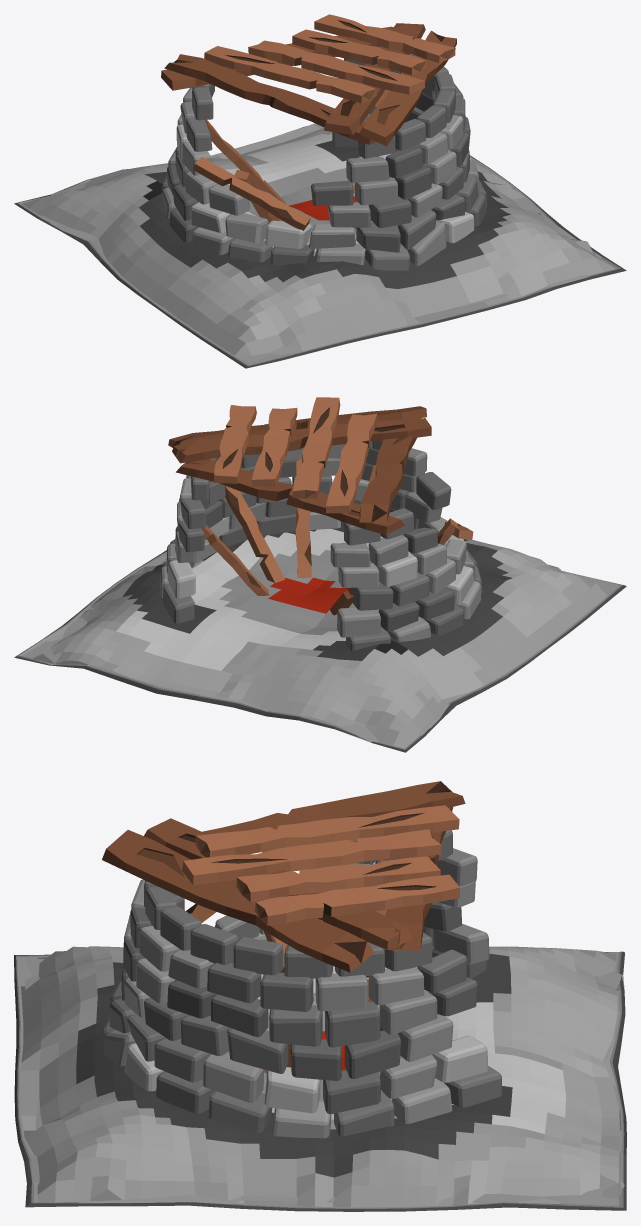
File: Fort.fbx
3 views of the same model, one above another, from view 1: azimuth 30°, elevation 25°; view 2: azimuth 150°, elevation 25°; view 3: azimuth 270°, elevation 25° (orthographic). The views are drawn at different scales.
Visible parts, largest first — view 1: Fort, 10_plank, 8_bricks, 12_plank, 13_plank, 16_plan, 15_plank, 14_plank, 7_plank, 11_plank, 9_plank, 3_plank; view 2: Fort, 11_plank, 9_plank, 13_plank, 12_plank, 10_plank, 14_plank, 15_plank, 5_plank, 8_bricks, 16_plan, 6_plank (+1 smaller); view 3: Fort, 16_plan, 8_bricks, 13_plank, 12_plank, 15_plank, 14_plank, 10_plank, 11_plank, 9_plank.
Boxes of the visible parts, x1=… form: Fort: x1=14, y1=58, x2=626, y2=368; 10_plank: x1=164, y1=54, x2=375, y2=144; 8_bricks: x1=192, y1=54, x2=455, y2=158; 12_plank: x1=204, y1=46, x2=376, y2=103; 13_plank: x1=248, y1=40, x2=424, y2=94; 16_plan: x1=359, y1=30, x2=456, y2=146; 15_plank: x1=314, y1=14, x2=455, y2=62; 14_plank: x1=292, y1=29, x2=426, y2=75; 7_plank: x1=193, y1=157, x2=310, y2=230; 11_plank: x1=324, y1=23, x2=425, y2=134; 9_plank: x1=161, y1=26, x2=393, y2=90; 3_plank: x1=205, y1=120, x2=286, y2=204; Fort: x1=14, y1=444, x2=626, y2=752; 11_plank: x1=172, y1=418, x2=431, y2=463; 9_plank: x1=176, y1=459, x2=404, y2=534; 13_plank: x1=292, y1=397, x2=340, y2=498; 12_plank: x1=325, y1=413, x2=377, y2=513; 10_plank: x1=359, y1=418, x2=419, y2=522; 14_plank: x1=252, y1=408, x2=297, y2=486; 15_plank: x1=214, y1=405, x2=256, y2=483; 5_plank: x1=225, y1=485, x2=285, y2=582; 8_bricks: x1=191, y1=423, x2=413, y2=545; 16_plan: x1=168, y1=406, x2=426, y2=447; 6_plank: x1=295, y1=459, x2=311, y2=578; Fort: x1=14, y1=840, x2=626, y2=1211; 16_plan: x1=102, y1=830, x2=374, y2=972; 8_bricks: x1=144, y1=830, x2=452, y2=978; 13_plank: x1=182, y1=829, x2=441, y2=885; 12_plank: x1=195, y1=805, x2=459, y2=857; 15_plank: x1=255, y1=874, x2=459, y2=925; 14_plank: x1=236, y1=856, x2=440, y2=901; 10_plank: x1=202, y1=781, x2=465, y2=834; 11_plank: x1=144, y1=818, x2=412, y2=949; 9_plank: x1=383, y1=807, x2=452, y2=950.
Bounding box in the file's own units: 16.27 × 7.21 × 16.28.
